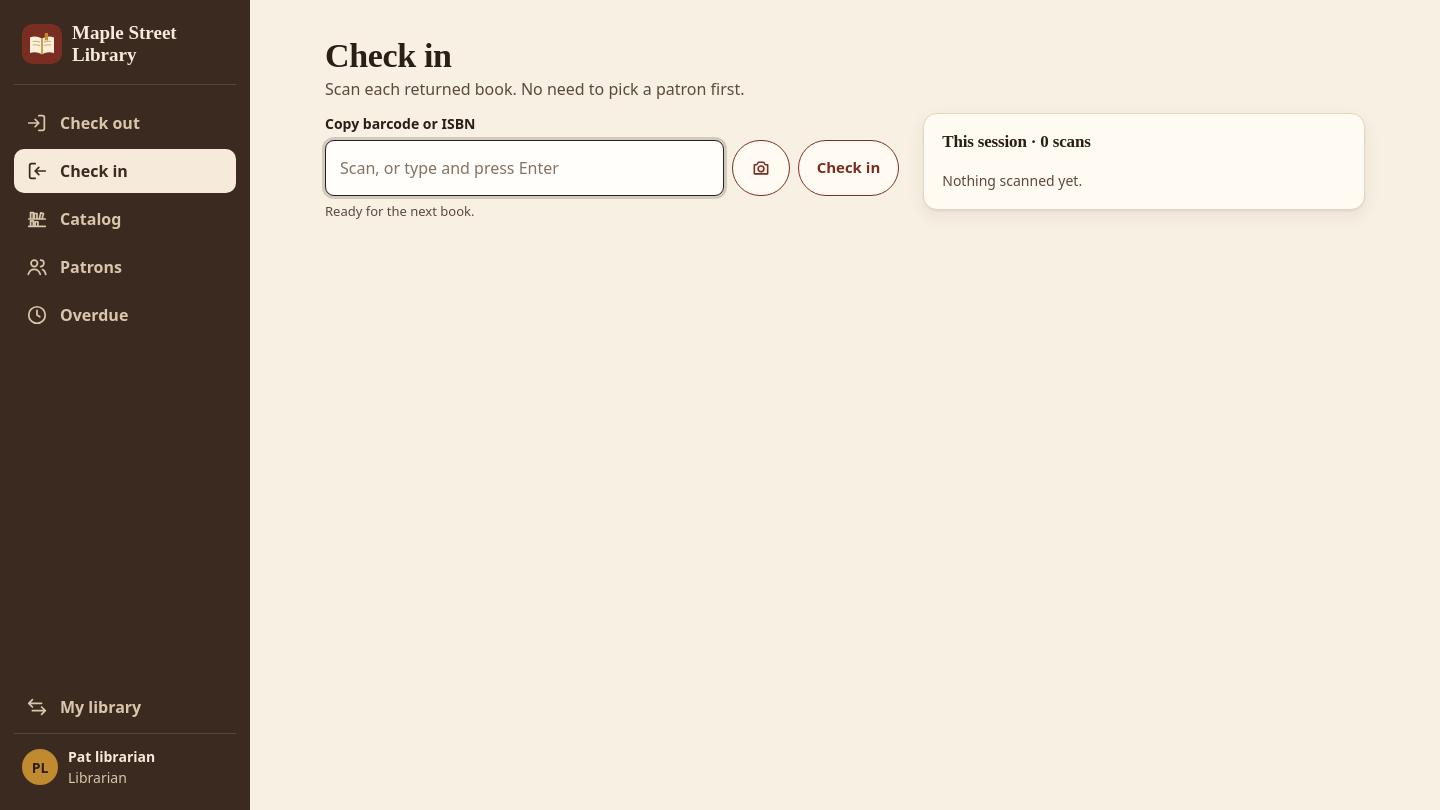
Scenario: CIRC-2 Check in › Return: the copy is shown as back, with where it goes on the shelf, and listed
Step 1. Type "C-000033" into the field → (524, 168), box [325,140,724,196]
Then press Enter
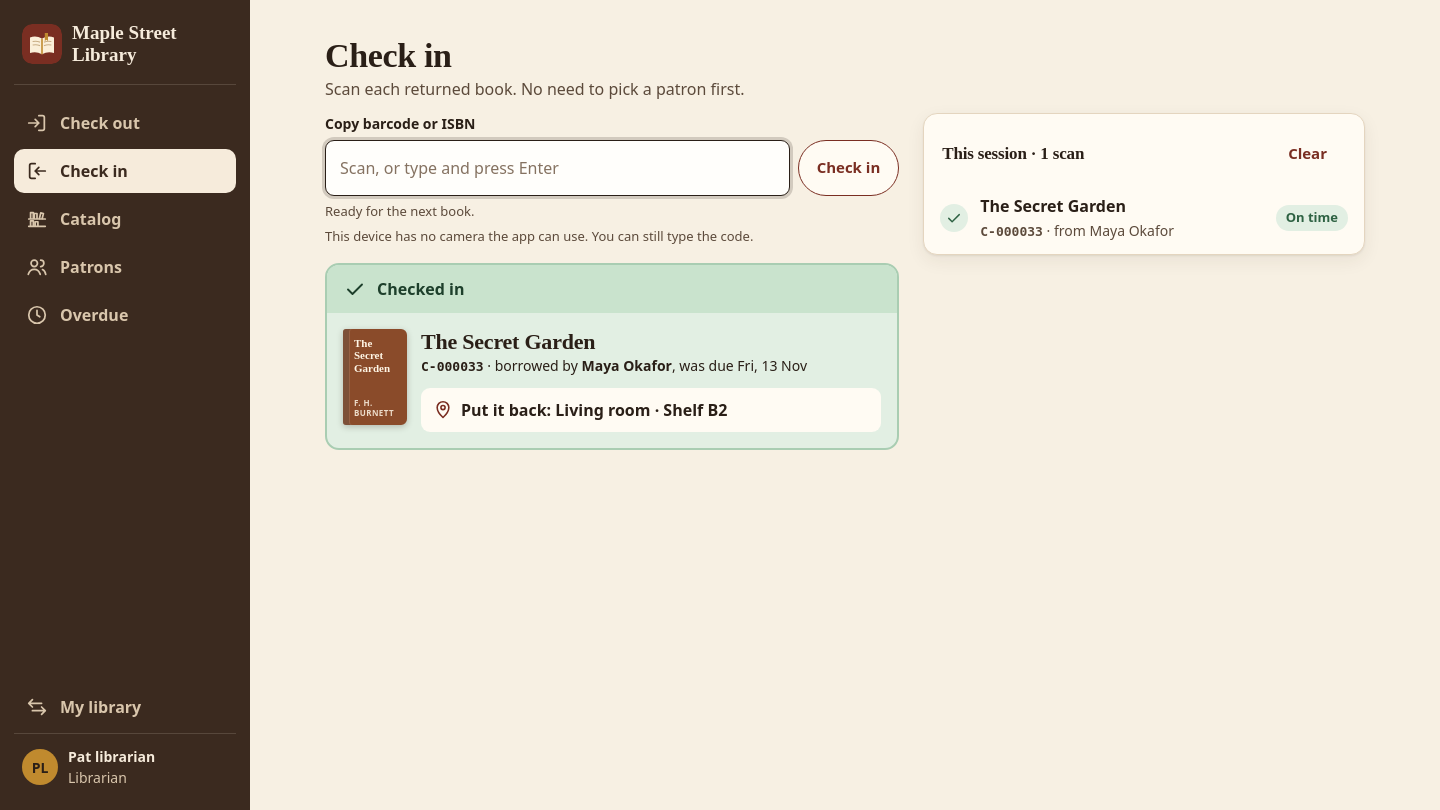
Result: the message named "Latest scan" shows "Checked in" at [377,278,464,300]
Result: the message named "Latest scan" shows "The Secret Garden" at [354,337,390,374]
Result: the message named "Latest scan" shows "borrowed by Maya Okafor" at [325,263,899,450]
